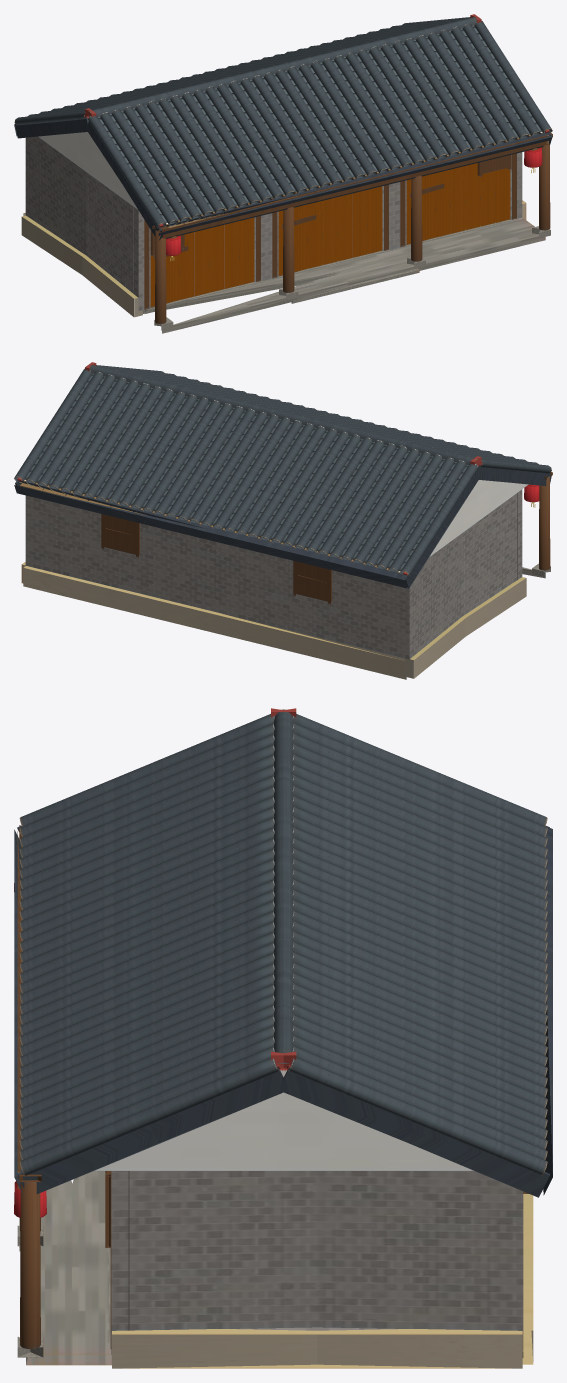
File: lib_lib_house_a1.glb
3 renders of one model, top to bottom at view 1: azimuth 30°, elevation 25°; view 2: azimuth 150°, elevation 25°; view 3: azimuth 270°, elevation 25°, orthographic. The views are drawn at different scales.
Parts seen in each view (by area): view 1: house_a1; view 2: house_a1; view 3: house_a1.
Boxes of the visible parts, x1=… form: house_a1: x1=14, y1=14, x2=552, y2=333; house_a1: x1=14, y1=362, x2=552, y2=679; house_a1: x1=14, y1=708, x2=552, y2=1368.
Bounding box in the file's own units: 11.12 × 4.6 × 7.19.
8 materials, 8 textured.
